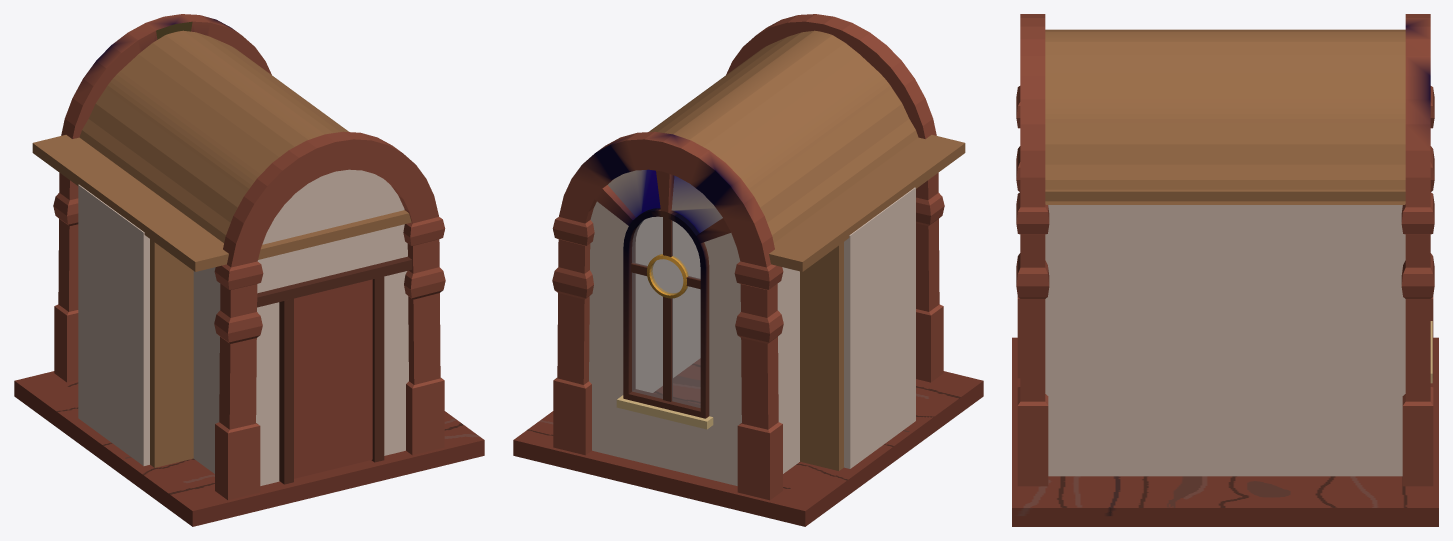
Rendered from Scenario.fbx.
3 views of the same model, side by side, from view 1: azimuth 30°, elevation 25°; view 2: azimuth 150°, elevation 25°; view 3: azimuth 270°, elevation 25° (orthographic). The views are drawn at different scales.
Visible parts, largest first — view 1: Wall_Dor, TopMap, Shelf_BG, Ground, Dor, Wall_Window, Shelf_L, Beam_L, Wall_Shelf1, DorPortalLeft, DorPortalRight, DorPortalTop (+1 smaller); view 2: Wall_Window, TopMap, Shelf_BG, Ground, Wall_Dor, Window, Shelf_R, Beam_L, Wall_Normal, Wall_Shelf2, WindowEffect_V, WindowBase (+1 smaller); view 3: Wall_Normal, TopMap, Ground, Wall_Dor, Wall_Window, Beam_R.
Boxes of the visible parts, bbox=[...] form: Wall_Dor: bbox=[214, 131, 445, 500]; TopMap: bbox=[79, 30, 348, 242]; Shelf_BG: bbox=[78, 184, 149, 465]; Ground: bbox=[14, 371, 484, 526]; Dor: bbox=[294, 279, 372, 478]; Wall_Window: bbox=[53, 14, 271, 382]; Shelf_L: bbox=[150, 239, 193, 467]; Beam_L: bbox=[32, 135, 228, 271]; Wall_Shelf1: bbox=[193, 267, 220, 473]; DorPortalLeft: bbox=[279, 298, 293, 484]; DorPortalRight: bbox=[371, 276, 384, 462]; DorPortalTop: bbox=[257, 256, 412, 307]; Wall_Window: bbox=[552, 131, 783, 500]; TopMap: bbox=[649, 30, 918, 242]; Shelf_BG: bbox=[844, 187, 915, 468]; Ground: bbox=[513, 358, 983, 526]; Wall_Dor: bbox=[726, 14, 944, 382]; Window: bbox=[632, 217, 700, 407]; Shelf_R: bbox=[800, 242, 843, 470]; Beam_L: bbox=[769, 135, 965, 271]; Wall_Normal: bbox=[635, 216, 700, 392]; Wall_Shelf2: bbox=[777, 267, 799, 473]; WindowEffect_V: bbox=[663, 217, 672, 401]; WindowBase: bbox=[616, 395, 713, 429]; Wall_Normal: bbox=[1045, 205, 1405, 476]; TopMap: bbox=[1045, 29, 1405, 204]; Ground: bbox=[1012, 337, 1438, 526]; Wall_Dor: bbox=[1016, 14, 1049, 486]; Wall_Window: bbox=[1401, 14, 1434, 486]; Beam_R: bbox=[1045, 189, 1405, 201].
Size of the model in its own units: 3875 by 4400 by 4100.
Materials: 14 (4 with a texture image).
